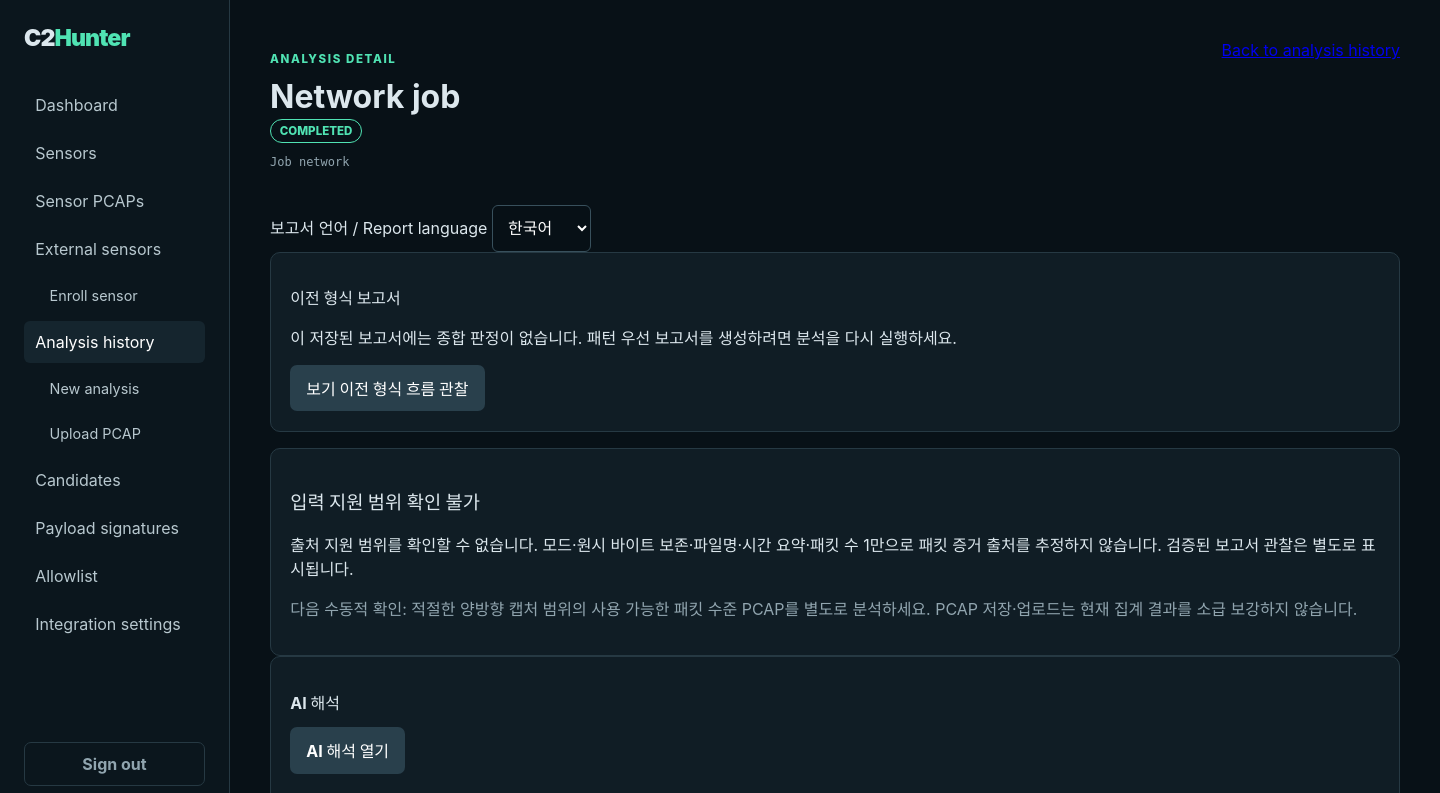
it: does not render arbitrary diagnostic values
Step 1. Click the button "AI 해석 열기" → {"x": 348, "y": 750}, box [290, 727, 405, 774]
(page scrolled)
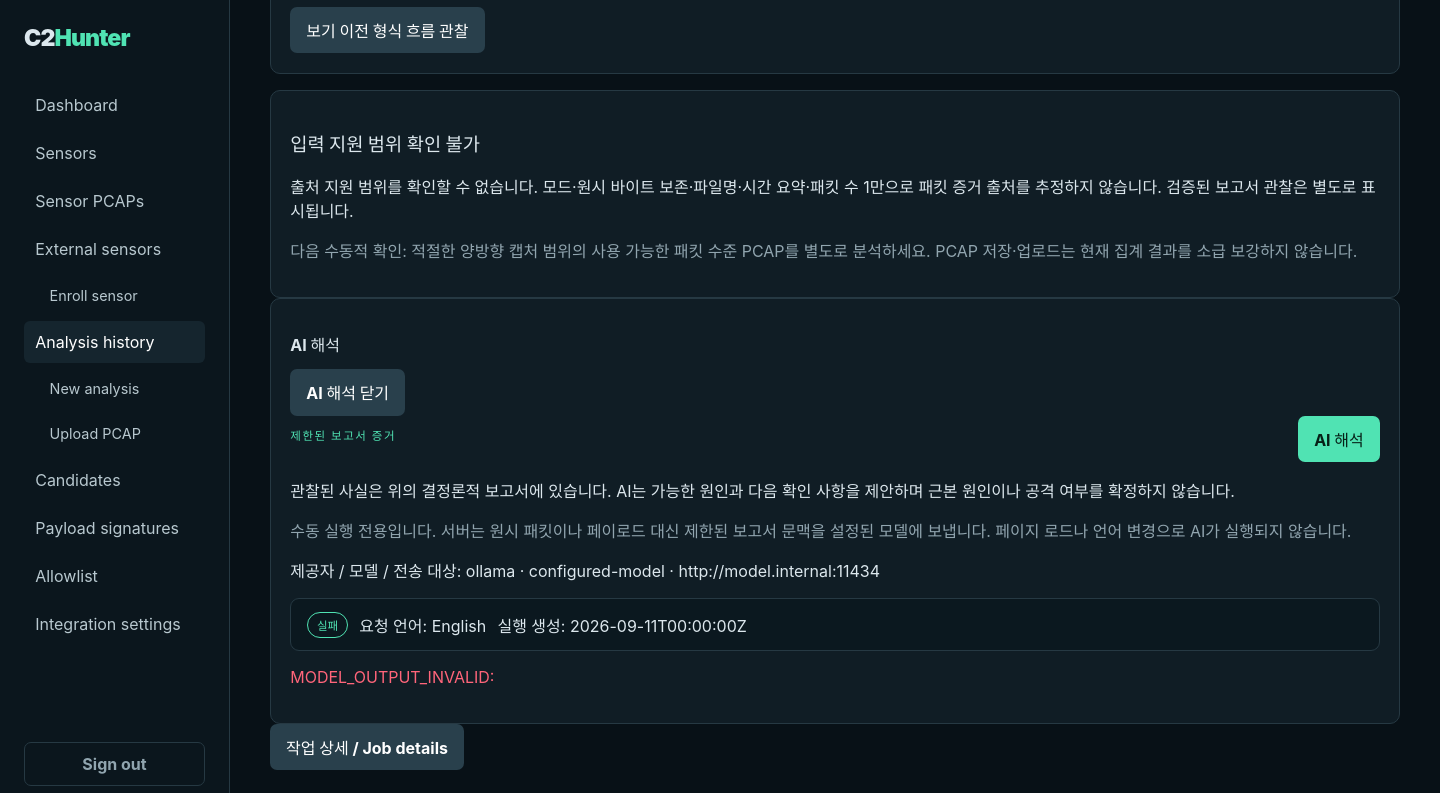
Expected: the text "MODEL_OUTPUT_INVALID:" is shown, [290, 668, 494, 688]
